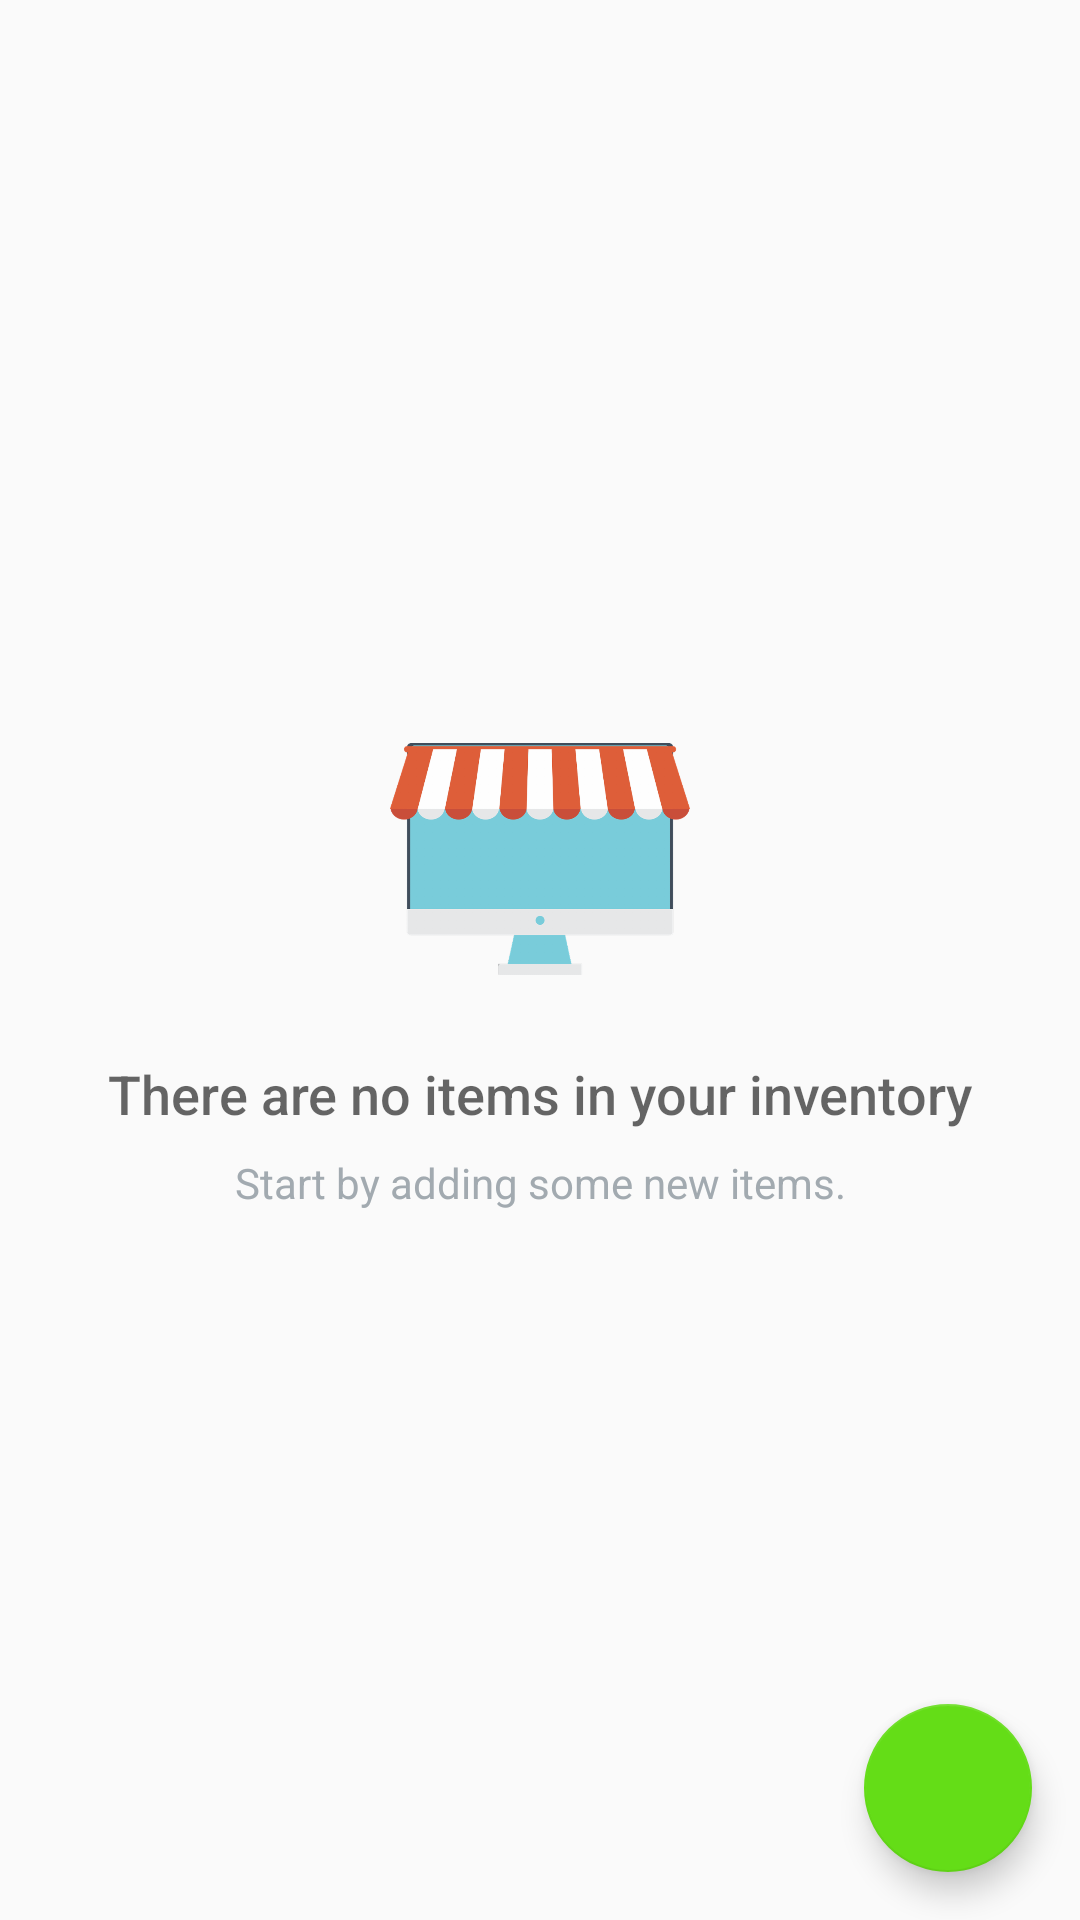

Named icons in this screenshot (1080w x 1920h) and their centers, (x=x, y=y):
store: (x=540, y=858)
